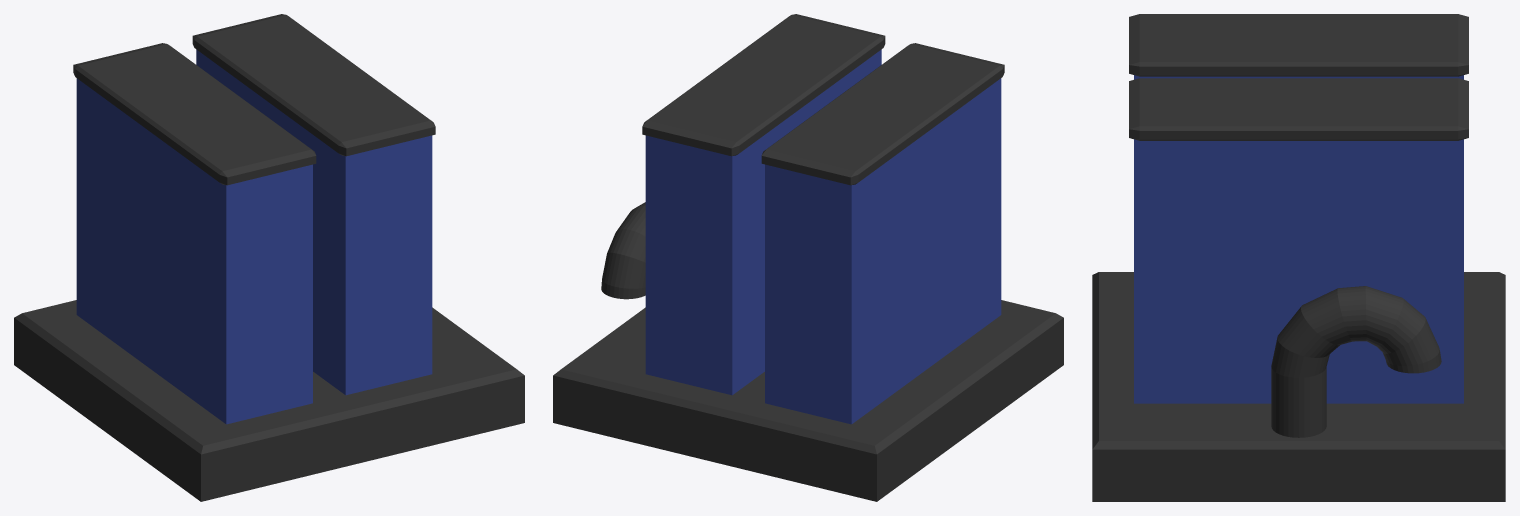
Rendered from CompostReactor.glb.
3 renders of one model, left to right at view 1: azimuth 30°, elevation 25°; view 2: azimuth 150°, elevation 25°; view 3: azimuth 270°, elevation 25°, orthographic. The views are drawn at different scales.
Parts seen in each view (by area): view 1: Cylinder; view 2: Cylinder; view 3: Cylinder.
Part boxes in pixels (x1,y1,x2,y2): Cylinder: [14, 14, 524, 501]; Cylinder: [553, 14, 1063, 501]; Cylinder: [1092, 14, 1505, 501].
Bounding box in the file's own units: 1.73 × 1.56 × 1.73.
